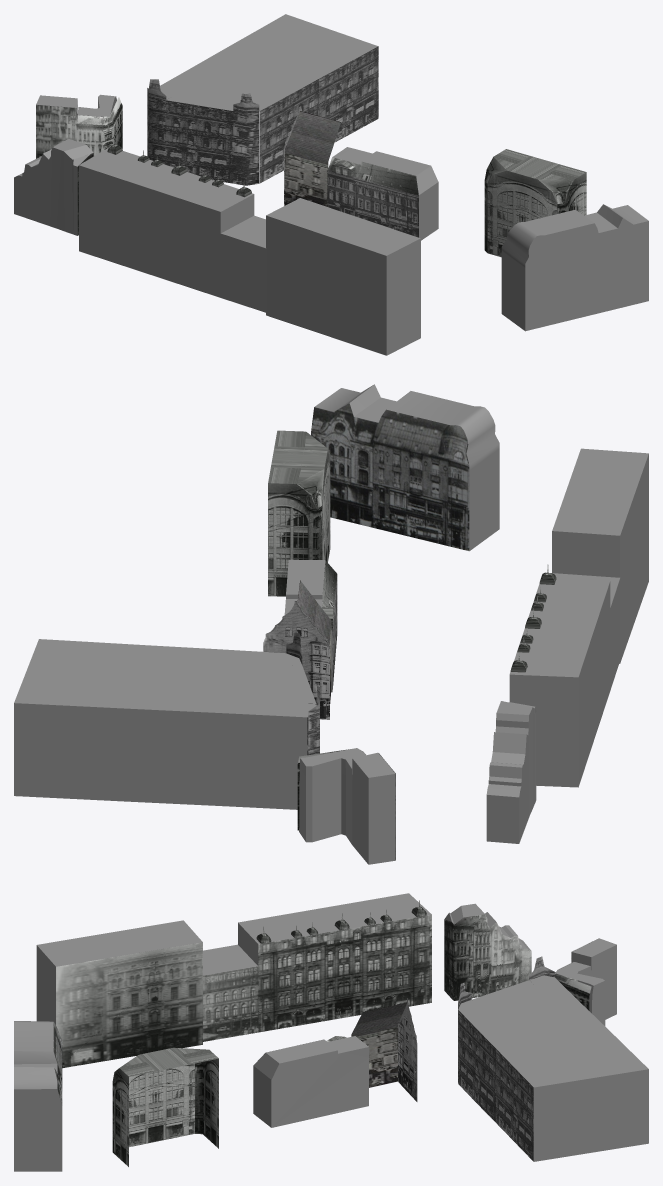
The model's file is AM_OLD_BUILDINGS_A.FBX.
The picture shows the model from 3 angles, top to bottom: view 1: azimuth 30°, elevation 25°; view 2: azimuth 150°, elevation 25°; view 3: azimuth 270°, elevation 25°; orthographic projection. The views are drawn at different scales.
Parts seen in each view (by area): view 1: Old_AM_CD_body, Old_AM_B_body, Old_G, Old_AL_Body, Old_G_Body, Old_K, Old_AM_IJ, Old_AM_E_body, Old_AM_H001, Old_AM_F_front, Old_AM_I_Body, Old_AM_F_body (+1 smaller); view 2: Old_G_Body, Old_AL_front, Old_AM_CD_body, Old_AM_B_body, Old_AM_F_body, Old_K, Old_AL_Body, Old_AM_E_body, Old_AM_H, Old_AM_I_Body, Old_AM_IJ, Old_AM_H001 (+2 smaller); view 3: Old_G_Body, Old_AM_CD_front, Old_AM_B_front, Old_K, Old_AM_I_Body, Old_AL_Body, Old_G, Old_AM_E, Old_AM_CD_body, Old_AM_B_body, Old_AM_F_body, Old_AM_H001 (+4 smaller).
Boxes of the visible parts, x1,y1,x2,y2 form: Old_AM_CD_body: (79, 147, 266, 312); Old_AM_B_body: (266, 198, 420, 355); Old_G: (147, 46, 378, 185); Old_AL_Body: (501, 204, 648, 331); Old_G_Body: (160, 14, 377, 110); Old_K: (484, 149, 586, 257); Old_AM_IJ: (327, 157, 418, 237); Old_AM_E_body: (14, 138, 93, 235); Old_AM_H001: (284, 111, 340, 206); Old_AM_F_front: (36, 97, 122, 158); Old_AM_I_Body: (332, 147, 438, 240); Old_AM_F_body: (36, 94, 116, 121); Old_G_Body: (14, 639, 316, 809); Old_AL_front: (311, 403, 469, 550); Old_AM_CD_body: (509, 573, 620, 787); Old_AM_B_body: (552, 448, 648, 663); Old_AM_F_body: (299, 748, 395, 864); Old_K: (268, 430, 330, 596); Old_AL_Body: (314, 384, 499, 550); Old_AM_E_body: (486, 701, 536, 843); Old_AM_H: (263, 601, 329, 719); Old_AM_I_Body: (284, 559, 332, 692); Old_AM_IJ: (322, 560, 337, 689); Old_AM_H001: (297, 580, 331, 703); Old_G_Body: (458, 975, 648, 1161); Old_AM_CD_front: (203, 900, 431, 1041); Old_AM_B_front: (56, 942, 202, 1068); Old_K: (112, 1047, 218, 1166); Old_AM_I_Body: (253, 1036, 369, 1127); Old_AL_Body: (14, 1021, 62, 1171); Old_G: (458, 956, 555, 1161); Old_AM_E: (444, 914, 531, 1000); Old_AM_CD_body: (203, 893, 431, 975); Old_AM_B_body: (36, 920, 202, 1024); Old_AM_F_body: (555, 938, 616, 1025); Old_AM_H001: (351, 1003, 406, 1087).
Size of the model in its own units: 9461 by 2388 by 13103.
12 materials, 10 textured.
